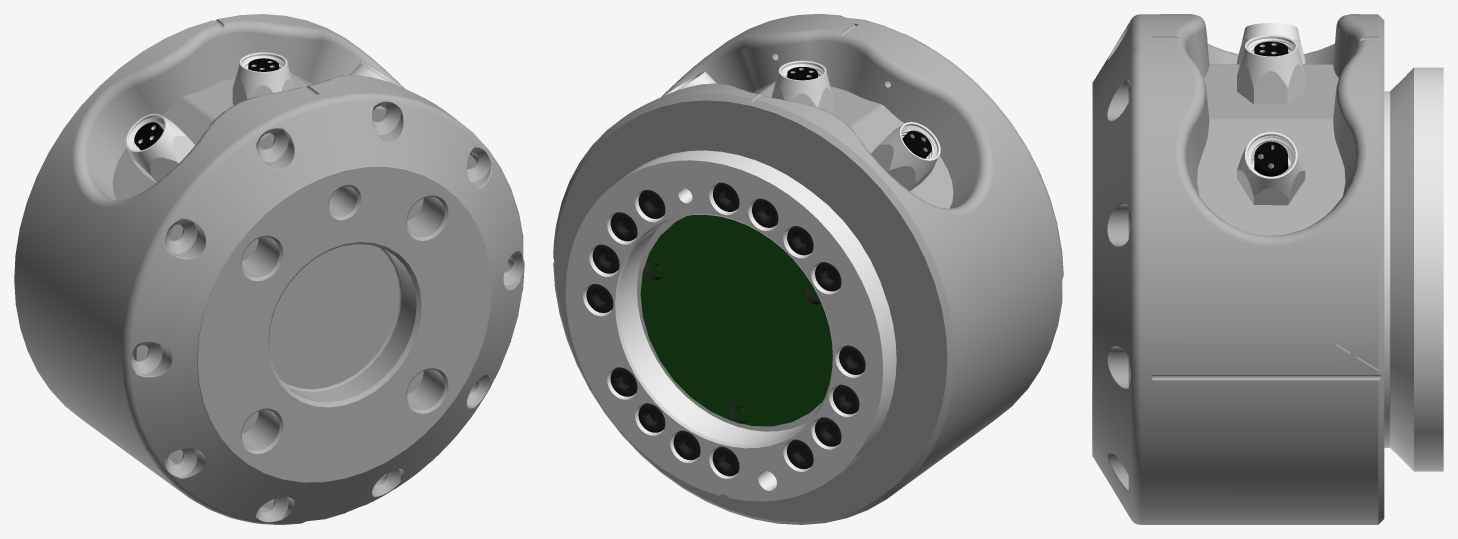
Rendered from E-generic-IO.glb.
3 renders of one model, left to right at view 1: azimuth 30°, elevation 25°; view 2: azimuth 150°, elevation 25°; view 3: azimuth 270°, elevation 25°, orthographic. The views are drawn at different scales.
Parts seen in each view (by area): view 1: 0815; view 2: 0815; view 3: 0815.
Boxes of the visible parts, <box> form: 0815: <box>14,14,524,524</box>; 0815: <box>553,14,1063,524</box>; 0815: <box>1092,14,1443,524</box>.
Size of the model in its own units: 0.086 by 0.086 by 0.0591.
